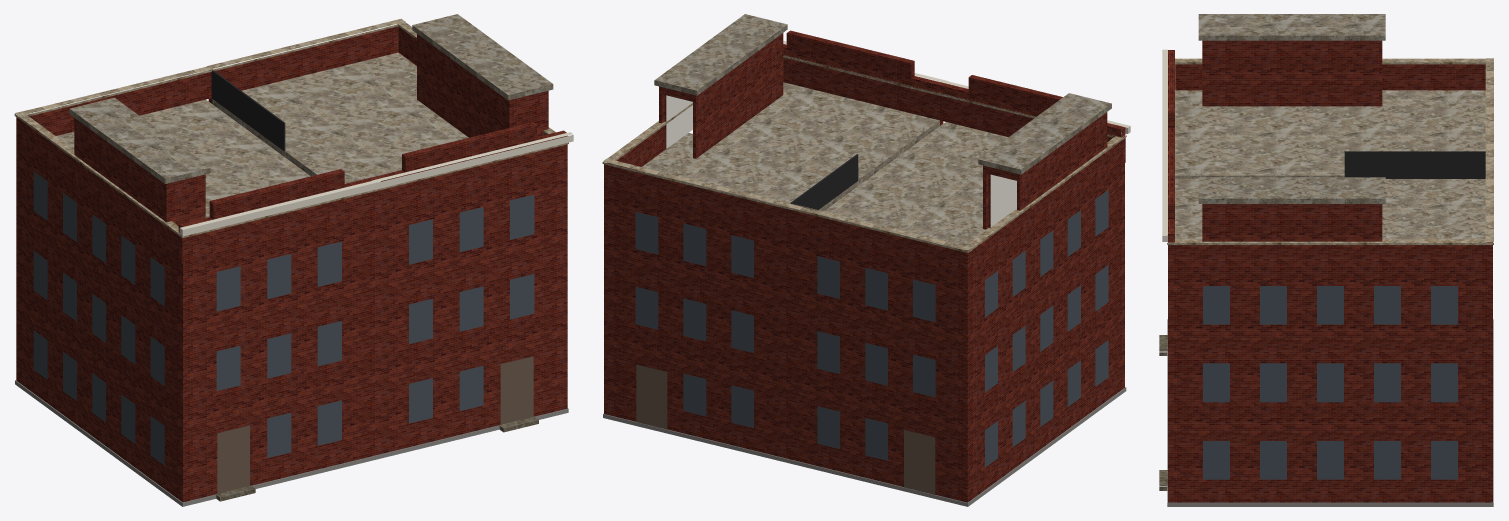
The model's file is mh-dutch-duplex.zfix-v22.lod1.glb.
3 views of the same model, side by side, from view 1: azimuth 30°, elevation 25°; view 2: azimuth 150°, elevation 25°; view 3: azimuth 270°, elevation 25° (orthographic). The views are drawn at different scales.
Parts seen in each view (by area): view 1: mh-dutch-duplex; view 2: mh-dutch-duplex; view 3: mh-dutch-duplex.
Part boxes in pixels (x1,y1,x2,y2): mh-dutch-duplex: (14, 14, 573, 506); mh-dutch-duplex: (602, 14, 1130, 506); mh-dutch-duplex: (1159, 14, 1493, 506).
Bounding box in the file's own units: 15.44 × 11.97 × 11.76.
3 materials, 2 textured.
